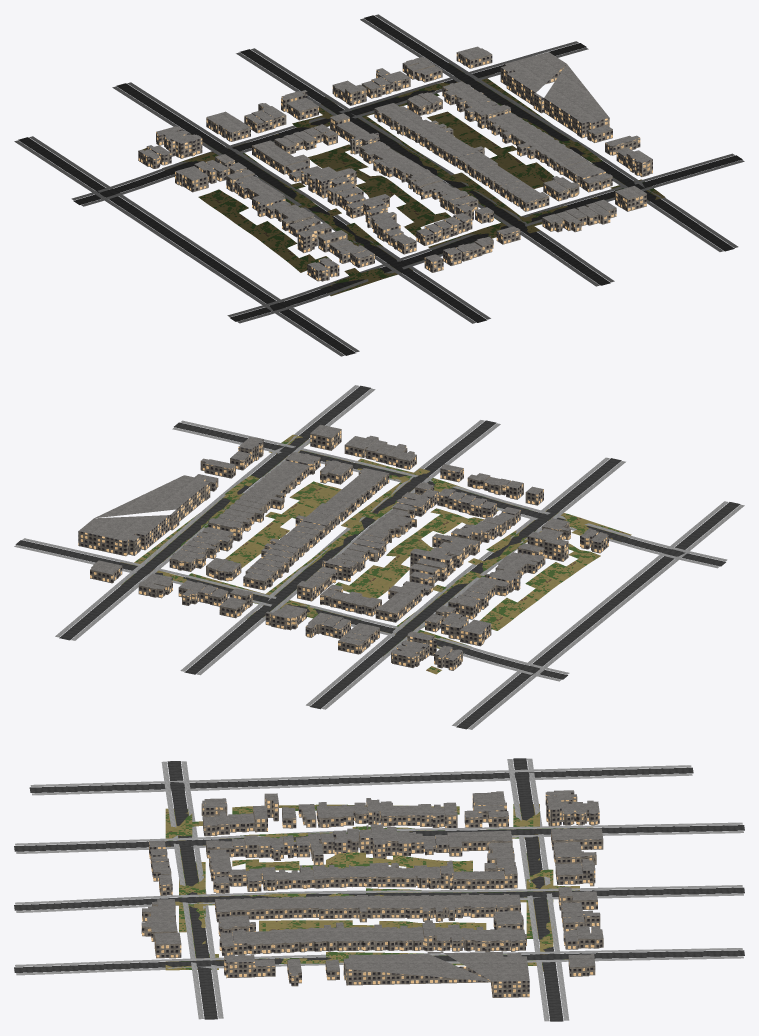
File: tile_3_-22.gltf
3 renders of one model, top to bottom at view 1: azimuth 30°, elevation 25°; view 2: azimuth 150°, elevation 25°; view 3: azimuth 270°, elevation 25°, orthographic. The views are drawn at different scales.
Visible parts, largest first — view 1: Buildings_col, Roads, Sidewalks, Terrain_col; view 2: Buildings_col, Roads, Sidewalks, Terrain_col; view 3: Buildings_col, Roads, Sidewalks, Terrain_col.
Boxes of the visible parts, bbox=[...] form: Buildings_col: bbox=[138, 46, 652, 281]; Roads: bbox=[18, 15, 742, 355]; Sidewalks: bbox=[14, 14, 744, 356]; Terrain_col: bbox=[143, 63, 665, 296]; Buildings_col: bbox=[78, 424, 608, 670]; Roads: bbox=[15, 385, 740, 729]; Sidewalks: bbox=[14, 385, 744, 729]; Terrain_col: bbox=[120, 434, 631, 674]; Buildings_col: bbox=[141, 790, 603, 997]; Roads: bbox=[14, 758, 744, 1021]; Sidewalks: bbox=[15, 758, 743, 1021]; Terrain_col: bbox=[165, 804, 592, 971].
Size of the model in its own units: 401 by 25.53 by 437.
Materials: 5 (5 with a texture image).
